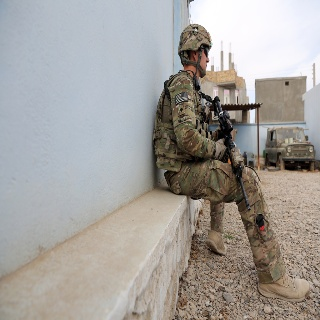rifle: (211, 95, 254, 210)
